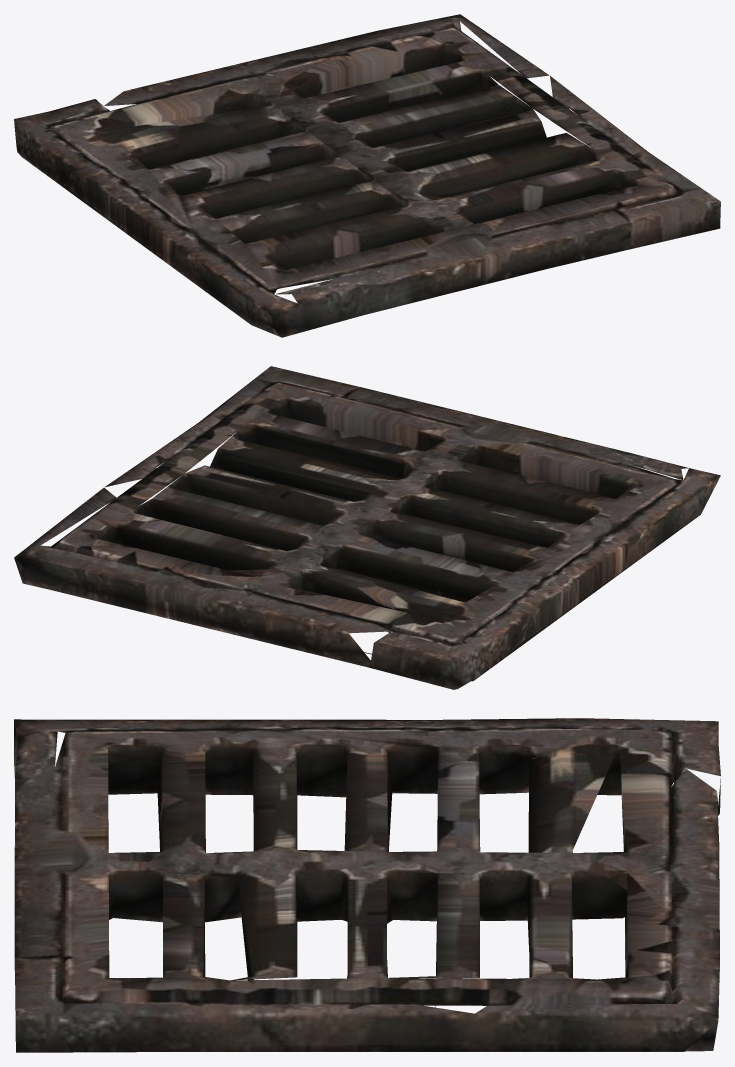
The model's file is drain.glb.
3 renders of one model, top to bottom at view 1: azimuth 30°, elevation 25°; view 2: azimuth 150°, elevation 25°; view 3: azimuth 270°, elevation 25°, orthographic. The views are drawn at different scales.
Visible parts, largest first — view 1: frame; view 2: frame; view 3: frame.
Boxes of the visible parts, <box> form: frame: <box>14,14,720,337</box>; frame: <box>14,366,720,689</box>; frame: <box>14,718,720,1052</box>.
Bounding box in the file's own units: 0.8 × 0.0637 × 0.7987.
Materials: 1 (1 with a texture image).
